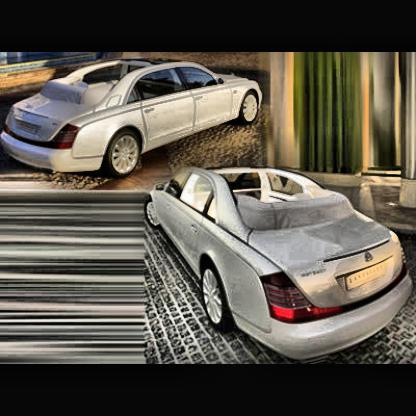Maybach Landaulet Convertible 2012: (145, 166, 411, 362)
